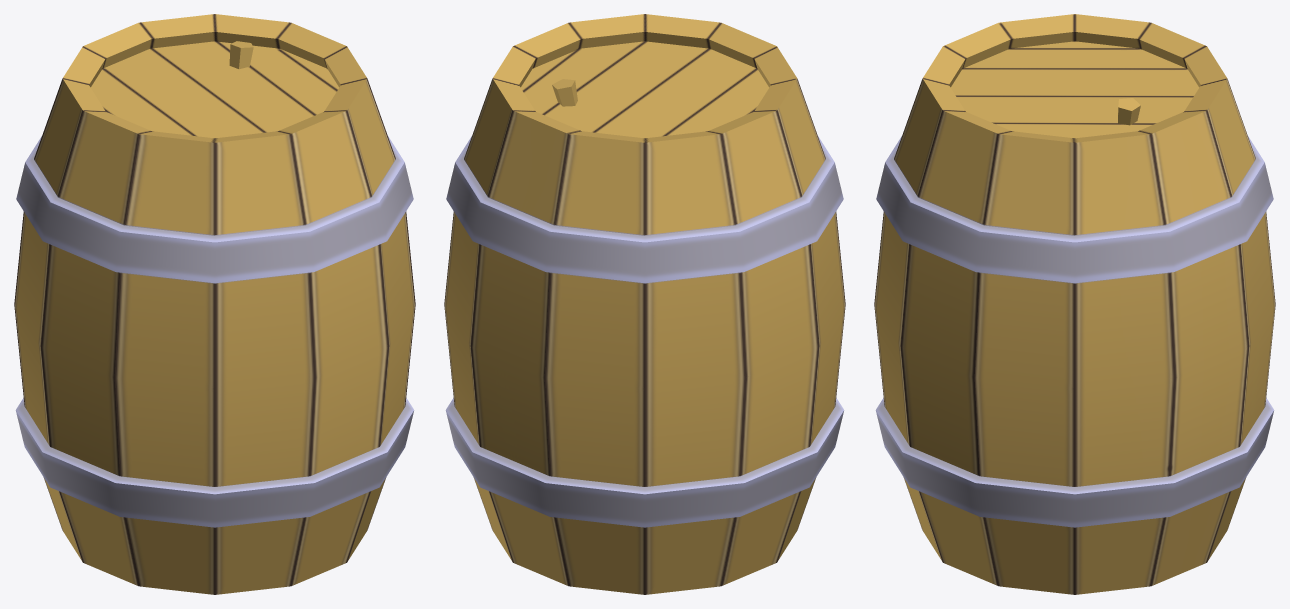
Rendered from Barril.fbx.
3 views of the same model, side by side, from view 1: azimuth 30°, elevation 25°; view 2: azimuth 150°, elevation 25°; view 3: azimuth 270°, elevation 25° (orthographic).
Parts seen in each view (by area): view 1: Barrel; view 2: Barrel; view 3: Barrel.
Boxes of the visible parts, left/top/right/bottom form: Barrel: left=14, top=14, right=415, bottom=594; Barrel: left=444, top=14, right=845, bottom=594; Barrel: left=874, top=14, right=1275, bottom=594.
Bounding box in the file's own units: 72.42 × 90.52 × 72.42.
